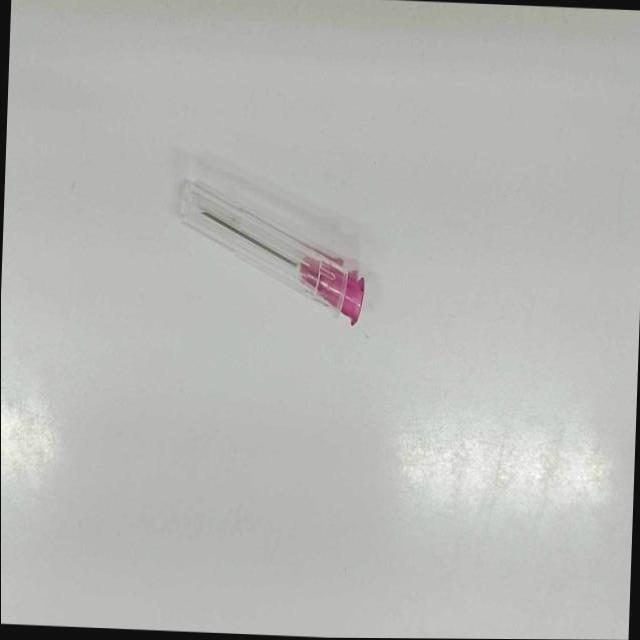Sharps: (176, 163, 368, 328)
